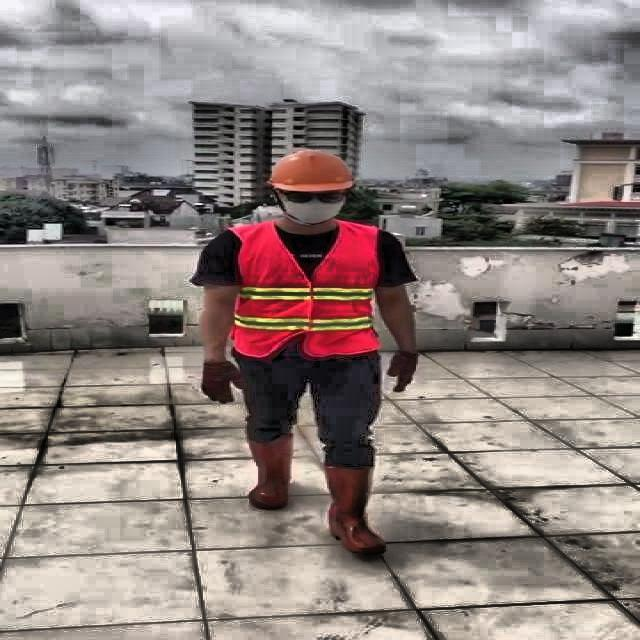safety_helmet: (266, 148, 358, 192)
safety_jacket: (229, 221, 384, 354)
